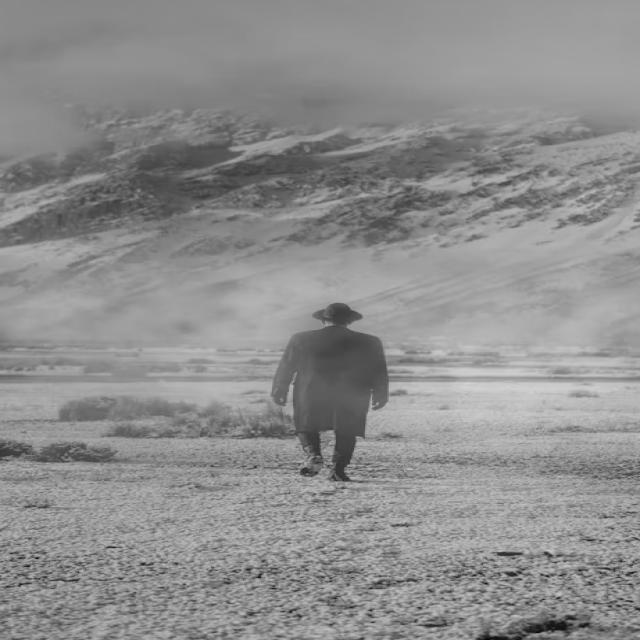Edited images: (237, 287, 430, 504)
